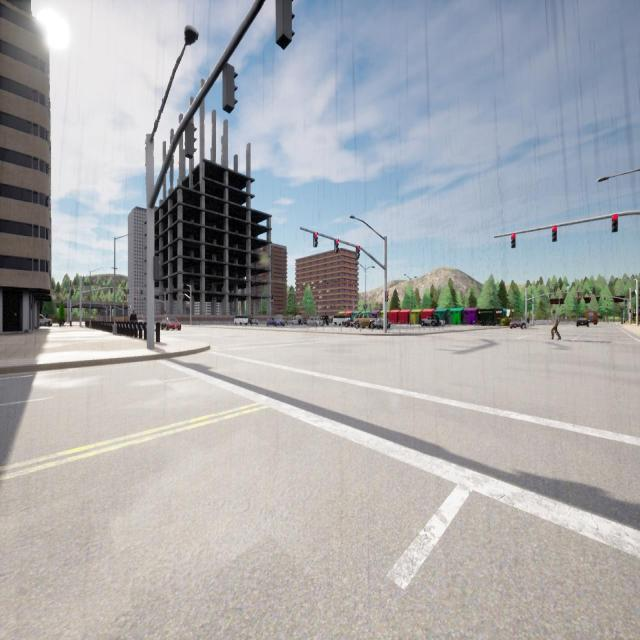Pedestrian: (551, 310, 561, 340), (130, 311, 137, 321)
Vehicle: (161, 318, 181, 331), (354, 315, 374, 328), (374, 317, 390, 328), (586, 310, 598, 324), (510, 319, 526, 329), (40, 314, 52, 327), (421, 316, 437, 325), (234, 315, 248, 325), (333, 316, 348, 325), (577, 318, 588, 327), (308, 318, 320, 326), (321, 316, 329, 326), (267, 319, 276, 326), (292, 318, 300, 325), (345, 319, 352, 326), (277, 320, 285, 326), (252, 319, 258, 325)
traffic_light: (276, 0, 295, 50), (223, 63, 238, 114), (185, 123, 196, 159), (154, 256, 159, 279), (612, 215, 618, 232), (552, 226, 557, 241), (313, 233, 318, 247), (511, 234, 515, 248), (356, 246, 360, 259), (335, 240, 338, 252), (385, 291, 388, 302), (589, 296, 592, 299), (124, 296, 126, 300), (134, 296, 136, 300), (164, 310, 166, 314), (604, 296, 606, 300), (578, 296, 580, 299), (629, 310, 631, 312)
